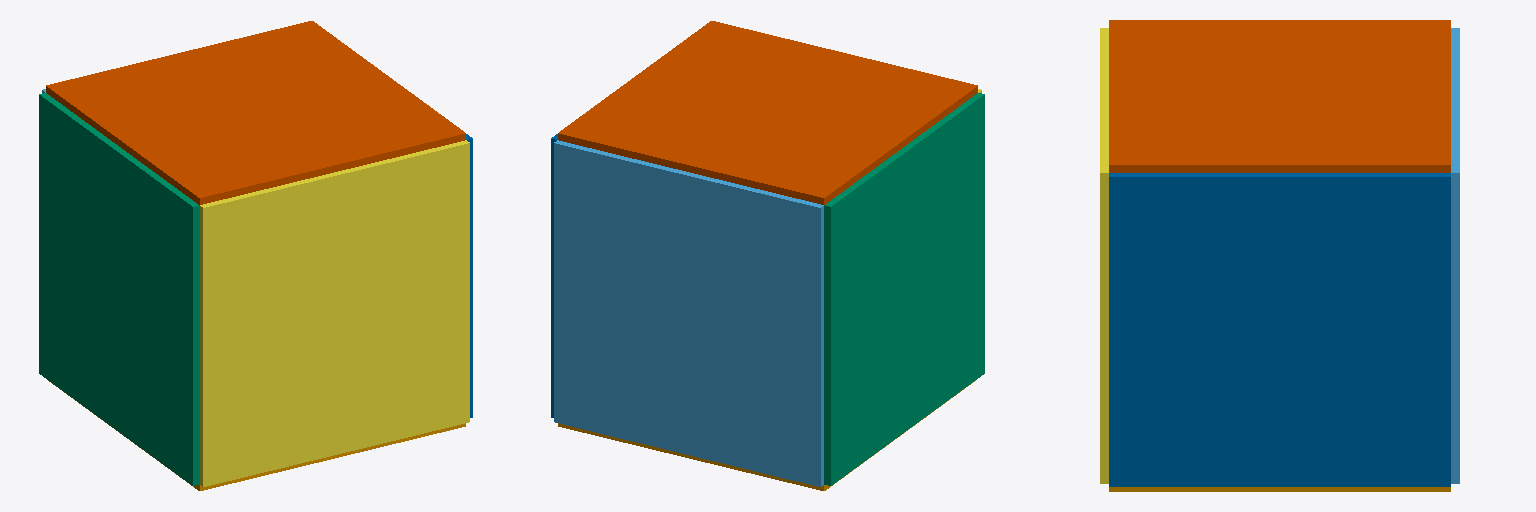
robot.urdf — box:
<?xml version="1.0"?>
<robot name="box">

  <!-- Base -->
  <link name="base_link">
    <visual>
      <geometry><box size="1 1 0.05"/></geometry>
      <origin xyz="0 0 0"/>
    </visual>
  </link>

  <!-- Walls -->
  <link name="right_link">
    <visual>
      <geometry><box size="1 1 0.05"/></geometry>
      <origin xyz="0 0 0.5" rpy="1.5708 0 0"/>
    </visual>
  </link>

  <joint name="right_to_bottom" type="fixed">
    <parent link="base_link"/>
    <child link="right_link"/>
    <origin xyz="0 0.5 0"/>
  </joint>

  <link name="back_link">
    <visual>
      <geometry><box size="1 1 0.05"/></geometry>
      <origin xyz="0 0 0.5" rpy="1.5708 0 1.5708"/>
    </visual>
  </link>

  <joint name="back_to_bottom" type="fixed">
    <parent link="base_link"/>
    <child link="back_link"/>
    <origin xyz="-0.5 0 0"/>
  </joint>

  <link name="left_link">
    <visual>
      <geometry><box size="1 1 0.05"/></geometry>
      <origin xyz="0 0 0.5" rpy="1.5708 0 0"/>
    </visual>
  </link>

  <joint name="left_to_bottom" type="fixed">
    <parent link="base_link"/>
    <child link="left_link"/>
    <origin xyz="0 -0.5 0"/>
  </joint>

  <link name="front_link">
    <visual>
      <geometry><box size="1 1 0.05"/></geometry>
      <origin xyz="0 0 0.5" rpy="1.5708 0 1.5708"/>
    </visual>
  </link>

  <joint name="front_to_bottom" type="fixed">
    <parent link="base_link"/>
    <child link="front_link"/>
    <origin xyz="0.5 0 0"/>
  </joint>

  <!-- Lid -->
  <link name="top_link">
    <visual>
      <geometry><box size="1 1 0.05"/></geometry>
      <origin xyz="0.5 0 0"/>
    </visual>
  </link>

  <joint name="top_to_back" type="revolute">
    <axis xyz="0 -1 0"/>
    <parent link="back_link"/>
    <child link="top_link"/>
    <limit lower="0" upper="1.57" effort="1000" velocity="0.5"/>
    <origin xyz="0 0 1"/>
  </joint>

  <!-- Spring Base -->
  <link name="spring_base_link">
    <visual>
      <geometry><cylinder length="0.8" radius="0.1"/></geometry>
      <origin xyz="0 0 0.4"/>
    </visual>
  </link>

  <joint name="spring_base" type="fixed">
    <parent link="base_link"/>
    <child link="spring_base_link"/>
  </joint>

  <!-- Sliding Spring -->
  <link name="spring_link">
    <visual>
      <geometry><cylinder length="0.8" radius="0.07"/></geometry>
      <origin xyz="0 0 0.4"/>
    </visual>
  </link>

  <joint name="spring_joint" type="prismatic">
    <axis xyz="0 0 1"/>
    <parent link="spring_base_link"/>
    <child link="spring_link"/>
    <limit lower="0" upper="0.8" effort="1000" velocity="0.5"/>
  </joint>

  <!-- Jack -->
  <link name="jack">
    <visual>
      <geometry><sphere radius="0.08"/></geometry>
      <origin xyz="0 0 0.08"/>
    </visual>
  </link>

  <joint name="jack_attach" type="fixed">
    <parent link="spring_link"/>
    <child link="jack"/>
    <origin xyz="0 0 0.8"/>
  </joint>

</robot>

--- Render facts (derived) ---
Views: 3 orthographic renders of the robot side by side, from view 1: azimuth 30°, elevation 25°; view 2: azimuth 150°, elevation 25°; view 3: azimuth 270°, elevation 25°.
Model box with 9 links and 8 joints (1 revolute, 1 prismatic, 6 fixed), rooted at base_link, posed every joint at zero.
Links seen in each view (by area): view 1: left_link, back_link, top_link, base_link, front_link; view 2: right_link, back_link, top_link, base_link, front_link; view 3: front_link, top_link, right_link, left_link, base_link.
Boxes of the visible links, x1,y1,x2,y2 form: left_link: (200, 140, 469, 486); back_link: (39, 93, 199, 485); top_link: (46, 21, 465, 204); base_link: (48, 380, 465, 490); front_link: (466, 134, 472, 417); right_link: (554, 140, 823, 486); back_link: (824, 93, 984, 485); top_link: (558, 21, 977, 204); base_link: (558, 380, 975, 490); front_link: (551, 134, 557, 417); front_link: (1109, 173, 1450, 486); top_link: (1109, 20, 1450, 172); right_link: (1451, 28, 1459, 483); left_link: (1100, 28, 1108, 483); base_link: (1109, 487, 1450, 491).
Size in the robot's own frame: 1.05 by 1.05 by 1.05 metres.
Geometry: primitives only (box / cylinder / sphere), no mesh files.
